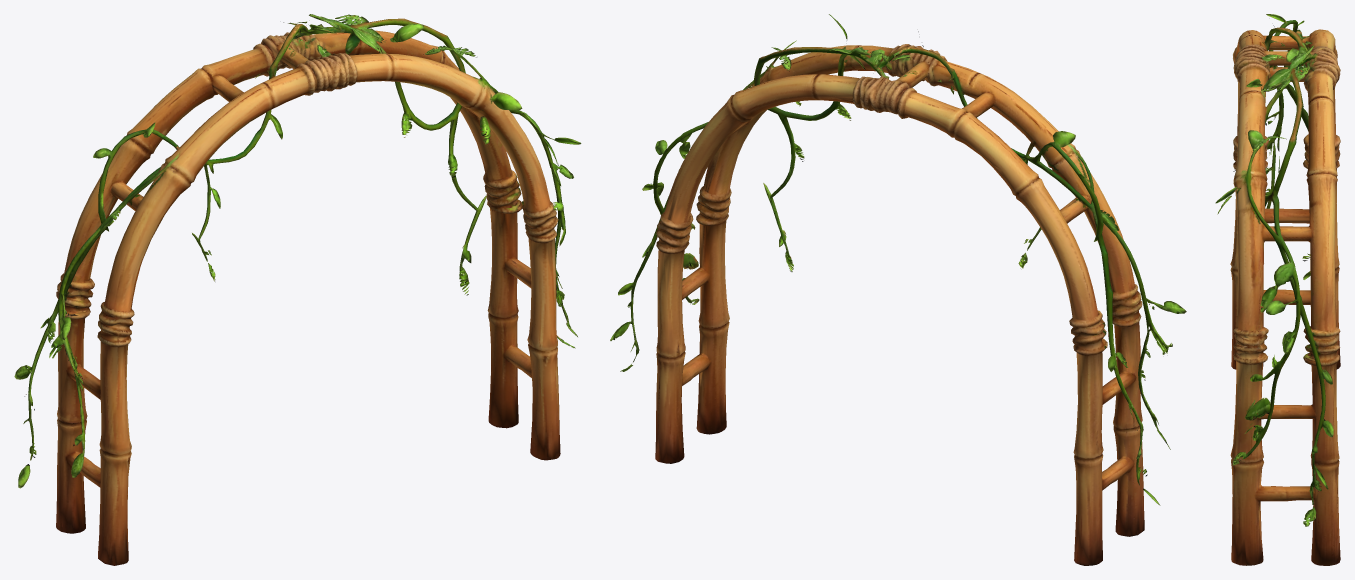
The model's file is Vine_Wrapped_Bamboo_A.fbx.
The picture shows the model from 3 angles, left to right: view 1: azimuth 30°, elevation 25°; view 2: azimuth 150°, elevation 25°; view 3: azimuth 270°, elevation 25°; orthographic projection. The views are drawn at different scales.
Parts seen in each view (by area): view 1: Vine_Wrapped_Bamboo_A_LOD0; view 2: Vine_Wrapped_Bamboo_A_LOD0; view 3: Vine_Wrapped_Bamboo_A_LOD0.
Boxes of the visible parts, bbox=[...] form: Vine_Wrapped_Bamboo_A_LOD0: bbox=[14, 14, 581, 565]; Vine_Wrapped_Bamboo_A_LOD0: bbox=[610, 14, 1186, 565]; Vine_Wrapped_Bamboo_A_LOD0: bbox=[1215, 14, 1340, 565].
Size of what is drawn, in the model's own units: 1.89 by 1.55 by 0.3995.
Materials: 1 (1 with a texture image).
